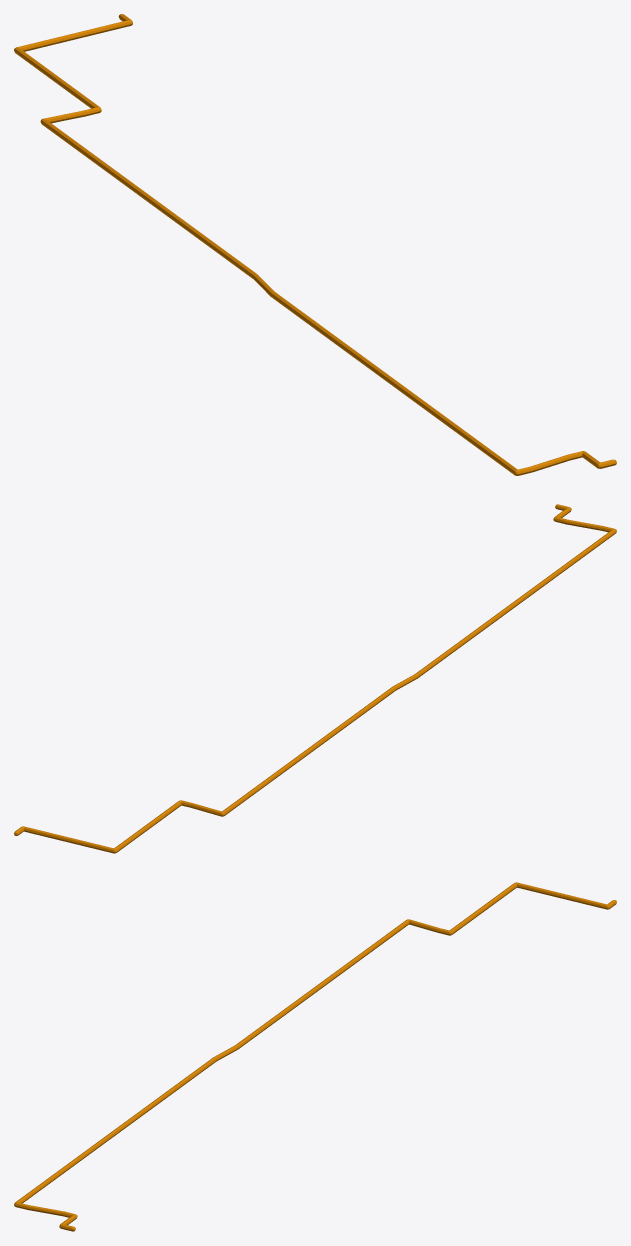
3 renders of one model, top to bottom at view 1: azimuth 30°, elevation 25°; view 2: azimuth 150°, elevation 25°; view 3: azimuth 330°, elevation 25°, orthographic. The views are drawn at different scales.
Size of the model in its own units: 626 by 20 by 3576.
